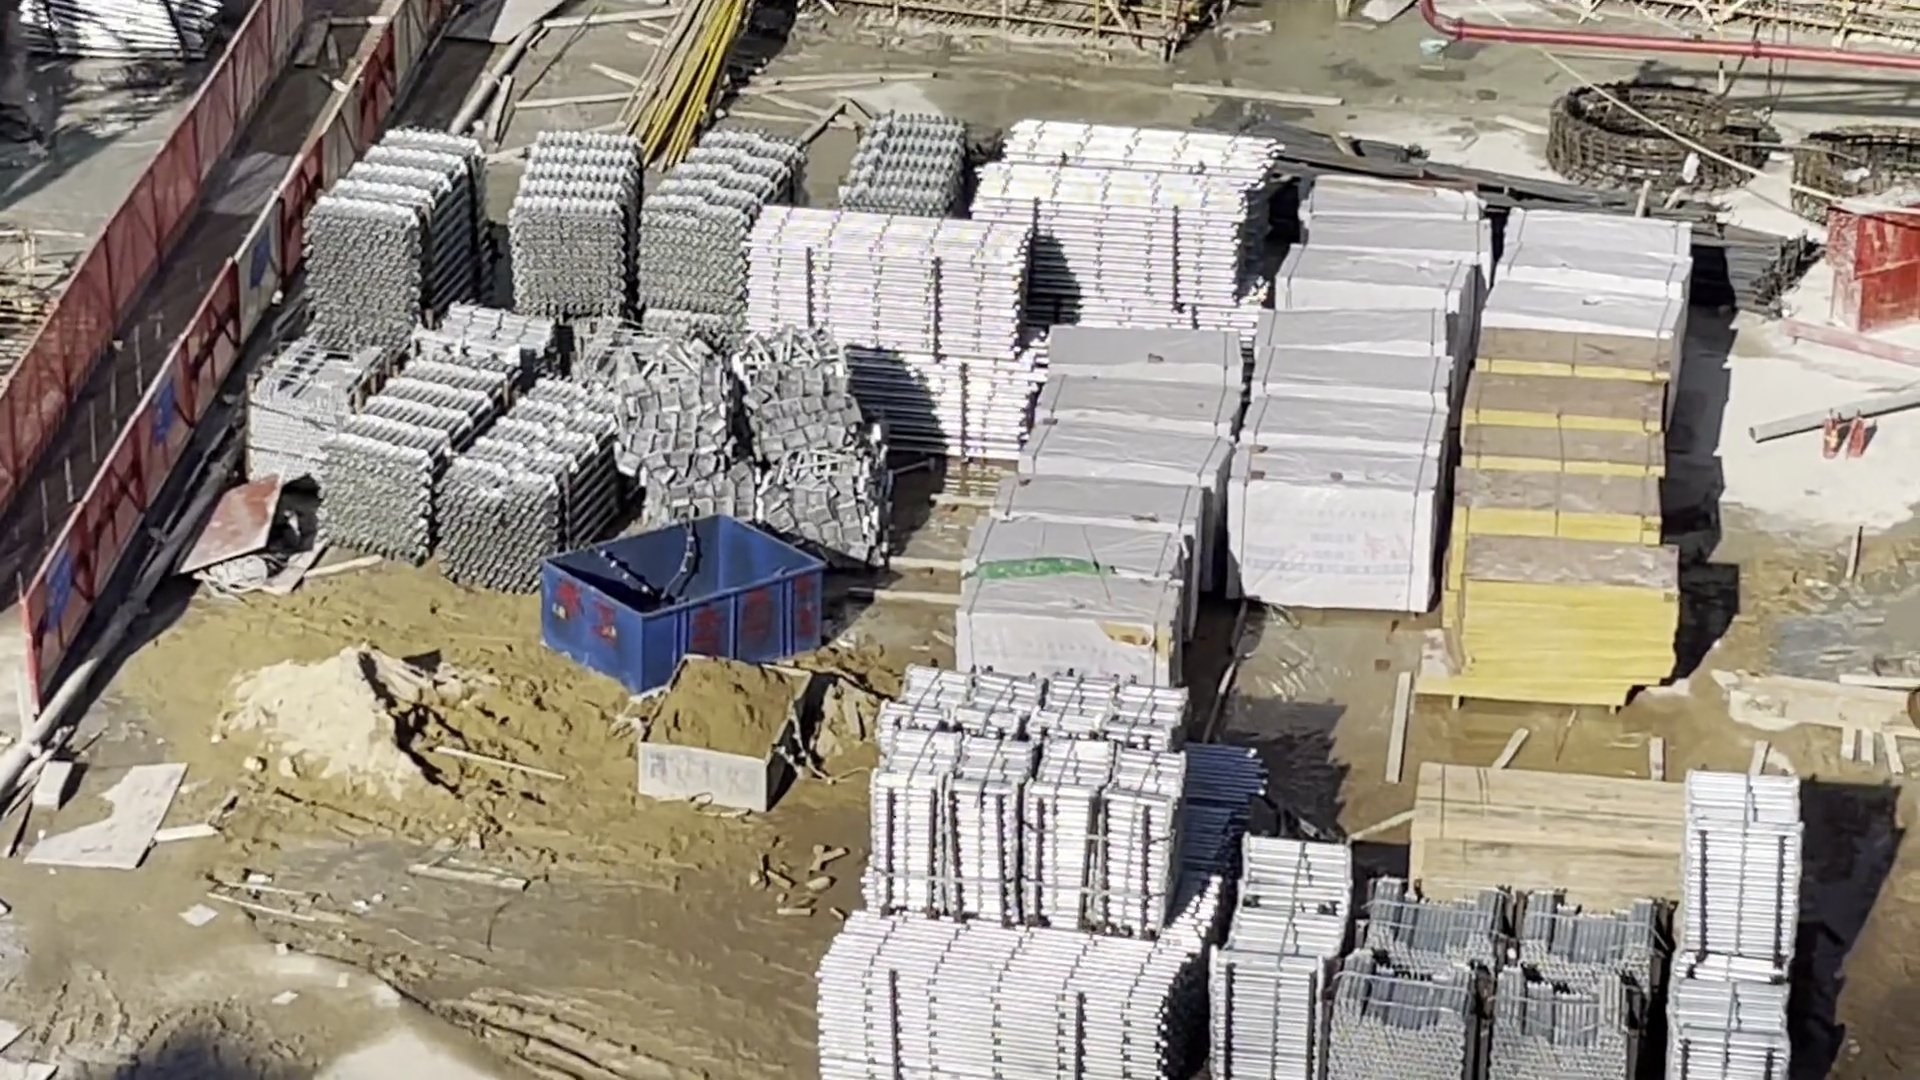board: (1456, 326, 1673, 703), (1412, 773, 1683, 907)
fence: (5, 4, 401, 629)
hopper: (538, 512, 819, 694), (638, 655, 815, 815)
rebar: (1258, 119, 1812, 314)
scaffold: (874, 661, 1183, 938), (742, 203, 1035, 462), (1328, 876, 1652, 1080), (327, 360, 620, 580), (820, 911, 1180, 1080), (967, 124, 1279, 309), (516, 127, 800, 323), (1663, 775, 1795, 1080), (309, 123, 481, 347), (1208, 839, 1328, 1080), (9, 1, 214, 69), (847, 113, 967, 215)
slogan: (44, 542, 73, 629), (152, 373, 175, 443)
